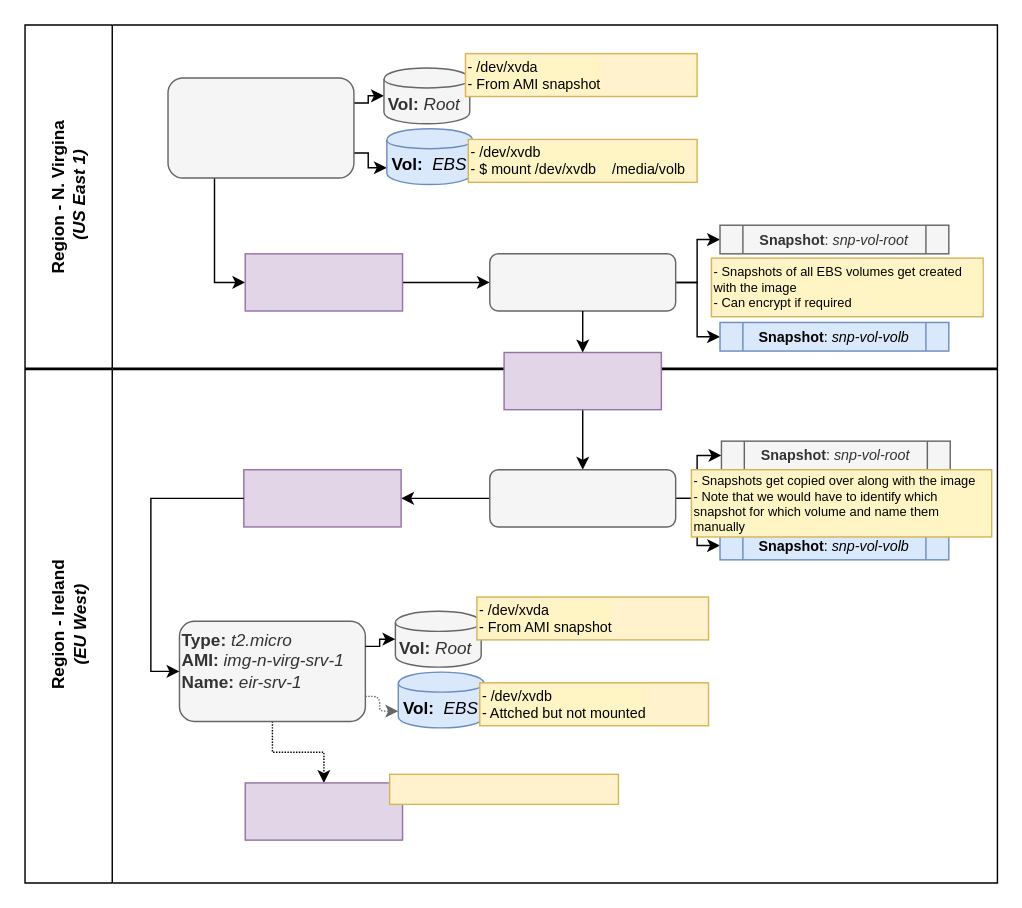
The diagram is 1022 pixels wide and 908 high, and some of its shapes have lost their labels. Here are the shapes that lost their labels. From the top down, the centre of each, then its label:
At point 260,127: "Type: t2.micro AMI: Amazon Linux AMI Name: n-vig-srv-1".
At point 323,281: "Create Image".
At point 582,281: "AMI: img-n-virg-srv-1".
At point 582,380: "Copy Image".
At point 321,497: "Launch Instance".
At point 582,497: "AMI: img-eir-srv-1".
At point 503,788: "- $ mount /dev/xvdb /media/volb".
At point 323,810: "Mount EBS Vols".
